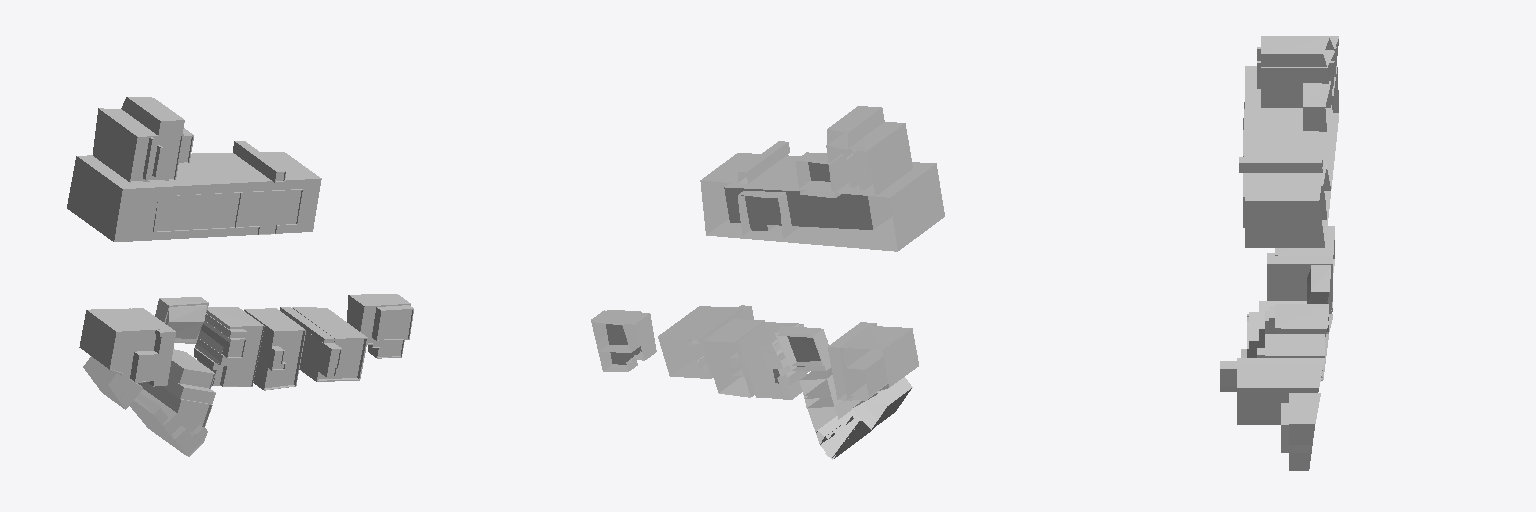
The picture shows the model from 3 angles: view 1: azimuth 30°, elevation 25°; view 2: azimuth 150°, elevation 25°; view 3: azimuth 270°, elevation 25°; orthographic projection.
Parts seen in each view (by area): view 1: [number redacted], [number redacted], [number redacted], [number redacted], [number redacted], [number redacted], [number redacted], [number redacted]; view 2: [number redacted], [number redacted], [number redacted], [number redacted], [number redacted], [number redacted], [number redacted], [number redacted]; view 3: [number redacted], [number redacted], [number redacted], [number redacted], [number redacted], [number redacted], [number redacted], [number redacted].
Boxes of the visible parts, x1=… form: [number redacted]: x1=67, y1=97, x2=321, y2=241; [number redacted]: x1=79, y1=308, x2=175, y2=409; [number redacted]: x1=130, y1=349, x2=215, y2=456; [number redacted]: x1=194, y1=307, x2=264, y2=386; [number redacted]: x1=280, y1=307, x2=367, y2=381; [number redacted]: x1=347, y1=294, x2=413, y2=358; [number redacted]: x1=244, y1=308, x2=305, y2=390; [number redacted]: x1=155, y1=297, x2=208, y2=343; [number redacted]: x1=700, y1=106, x2=944, y2=251; [number redacted]: x1=828, y1=322, x2=918, y2=429; [number redacted]: x1=658, y1=305, x2=753, y2=378; [number redacted]: x1=799, y1=368, x2=873, y2=459; [number redacted]: x1=591, y1=310, x2=656, y2=371; [number redacted]: x1=738, y1=322, x2=809, y2=399; [number redacted]: x1=703, y1=319, x2=764, y2=397; [number redacted]: x1=775, y1=326, x2=830, y2=370; [number redacted]: x1=1239, y1=36, x2=1338, y2=247; [number redacted]: x1=1220, y1=358, x2=1324, y2=424; [number redacted]: x1=1267, y1=226, x2=1334, y2=313; [number redacted]: x1=1281, y1=393, x2=1320, y2=470; [number redacted]: x1=1265, y1=304, x2=1328, y2=336; [number redacted]: x1=1257, y1=334, x2=1324, y2=357; [number redacted]: x1=1241, y1=301, x2=1332, y2=380; [number redacted]: x1=1307, y1=265, x2=1330, y2=303.
Bounding box in the file's own units: 91.38 × 91.5 × 29.5.